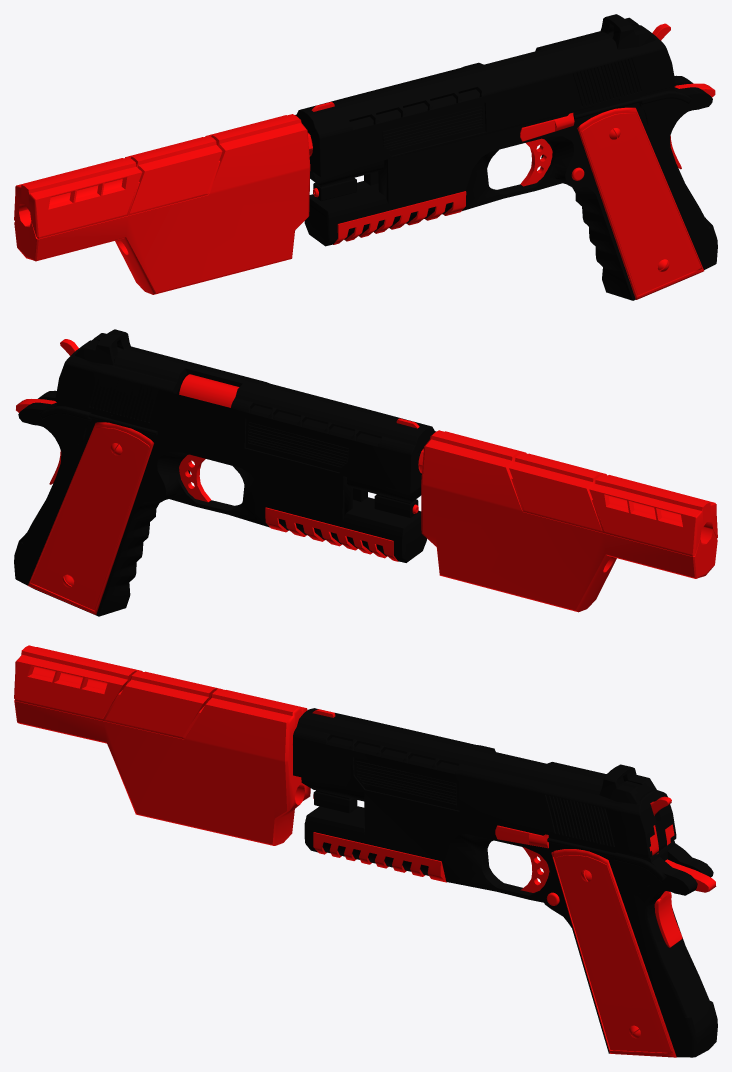
The picture shows the model from 3 angles, top to bottom: view 1: azimuth 30°, elevation 25°; view 2: azimuth 150°, elevation 25°; view 3: azimuth 330°, elevation 25°; orthographic projection.
Parts seen in each view (by area): view 1: silencer, Top, Base, Grip, FrontGrip, Trigger, safety; view 2: silencer, Top, Base, Grip, FrontGrip, Barrel, Trigger; view 3: silencer, Top, Base, Grip, FrontGrip, reargrip, safety, Trigger.
Boxes of the visible parts, x1=… form: silencer: x1=14, y1=114, x2=312, y2=294; Top: x1=295, y1=14, x2=675, y2=201; Base: x1=304, y1=75, x2=717, y2=300; Grip: x1=577, y1=107, x2=703, y2=299; FrontGrip: x1=333, y1=191, x2=466, y2=244; Trigger: x1=520, y1=138, x2=552, y2=186; safety: x1=520, y1=113, x2=574, y2=141; silencer: x1=418, y1=430, x2=717, y2=612; Top: x1=55, y1=329, x2=436, y2=517; Base: x1=14, y1=390, x2=426, y2=616; Grip: x1=28, y1=422, x2=153, y2=614; FrontGrip: x1=265, y1=507, x2=398, y2=561; Barrel: x1=179, y1=374, x2=423, y2=473; Trigger: x1=179, y1=454, x2=210, y2=502; silencer: x1=14, y1=645, x2=310, y2=845; Top: x1=293, y1=708, x2=676, y2=858; Base: x1=304, y1=791, x2=717, y2=1057; Grip: x1=551, y1=849, x2=676, y2=1057; FrontGrip: x1=313, y1=832, x2=446, y2=882; reargrip: x1=654, y1=891, x2=682, y2=947; safety: x1=495, y1=825, x2=548, y2=848; Trigger: x1=520, y1=847, x2=549, y2=892.
Size of the model in its own units: 76.47 by 29.06 by 6.26.
